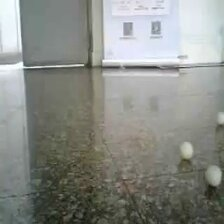tennis: (202, 80, 217, 100), (138, 65, 152, 83), (219, 65, 224, 81)
